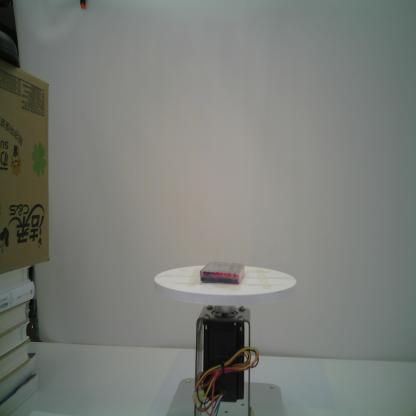Gum: (200, 261, 245, 284)
